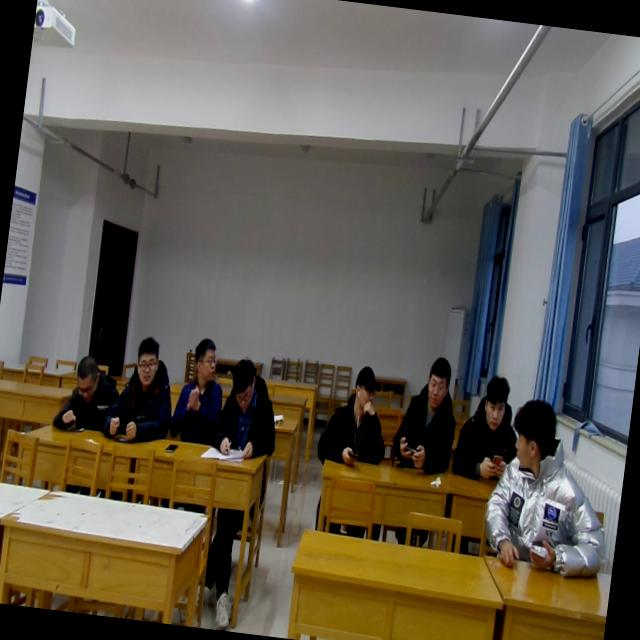bow: (49, 348, 126, 440)
down: (224, 351, 262, 414), (69, 349, 106, 408), (479, 370, 513, 434)
lookup: (421, 352, 455, 413), (129, 334, 162, 388)
sit: (477, 394, 622, 584), (386, 351, 465, 476), (101, 333, 183, 449), (314, 360, 397, 473), (451, 368, 529, 484), (208, 352, 286, 464), (168, 336, 230, 444)
